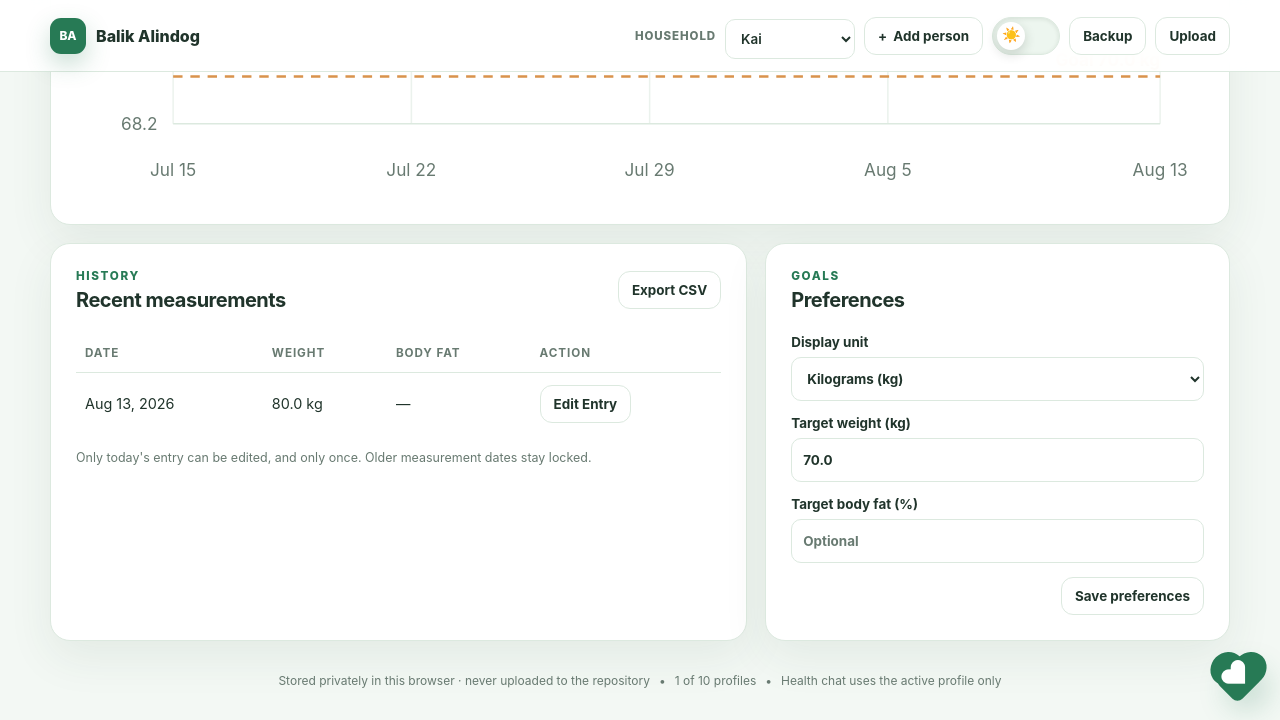
Test case: Balik Alindog Tracker › edits a saved entry once from history
This screenshot has width=1280, height=720.
(page scrolled)
Click the button "Edit Entry".
click(585, 404)  # box [540,385,631,423]
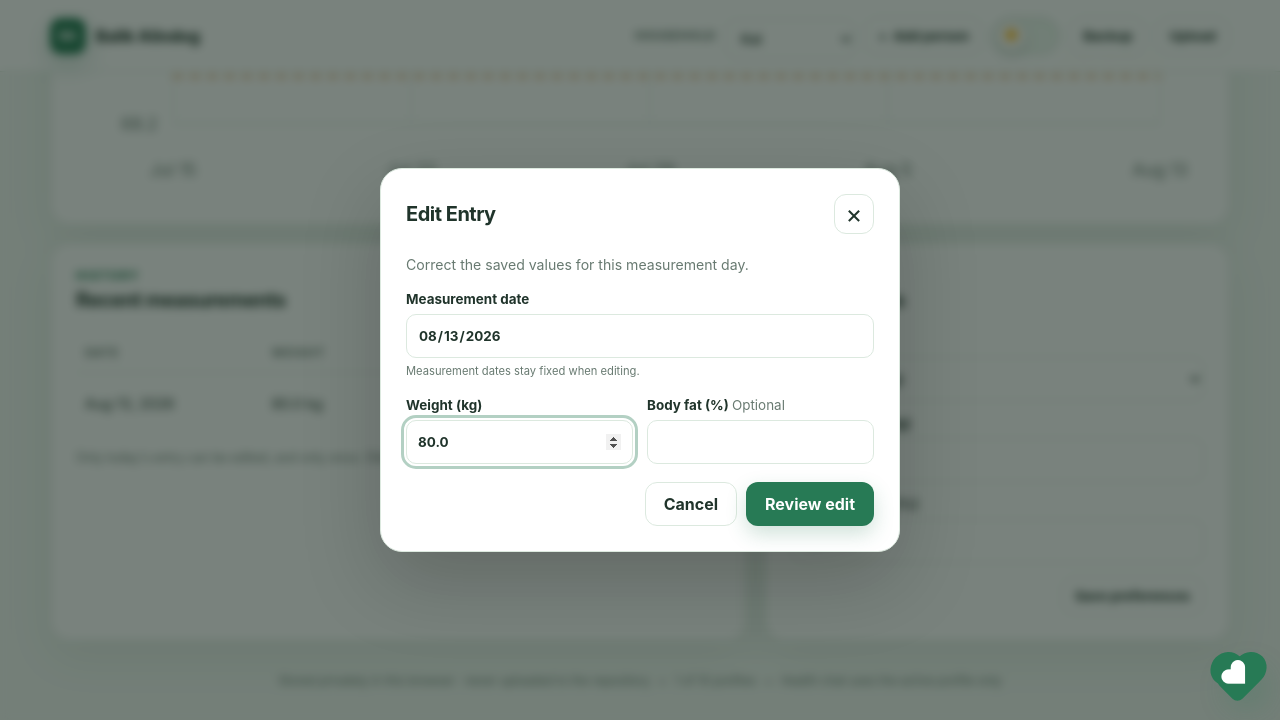
Replace the text in the number field labelled "Weight (kg)" with "79.4" at {"x": 520, "y": 442}, box [406,420,633,464]
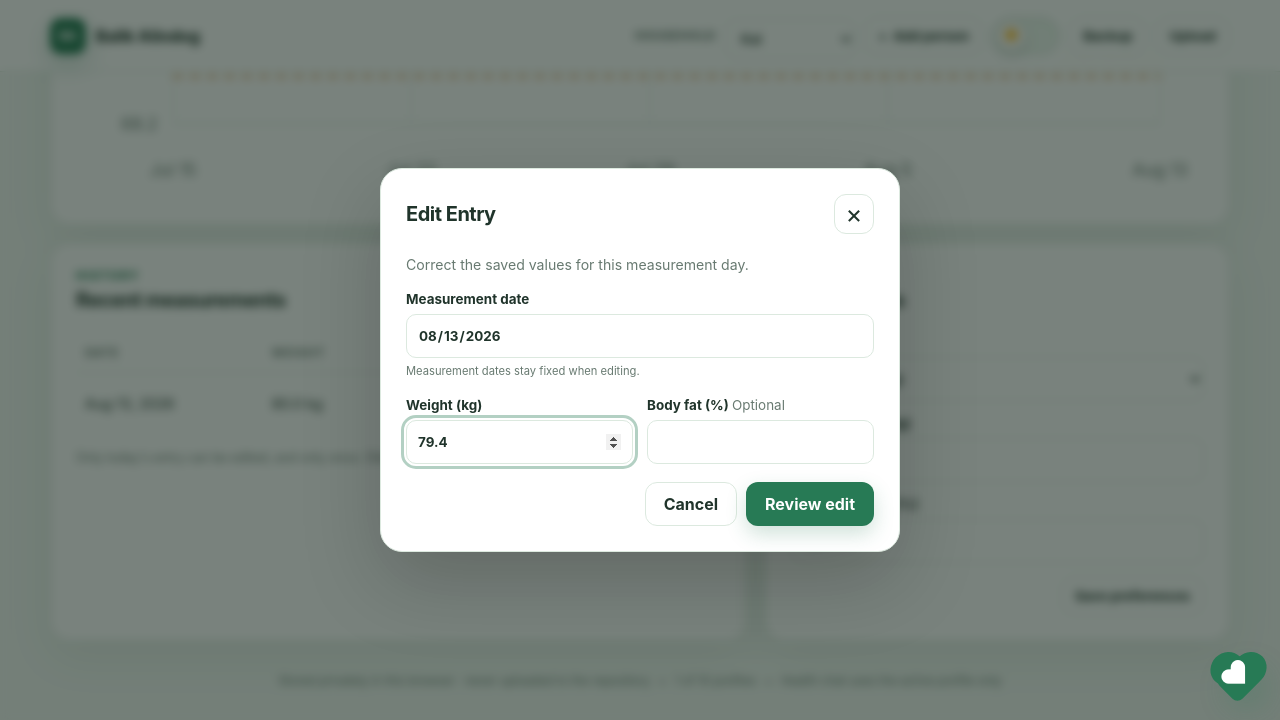
Click the button "Review edit".
click(810, 504)  # box [746,482,874,526]
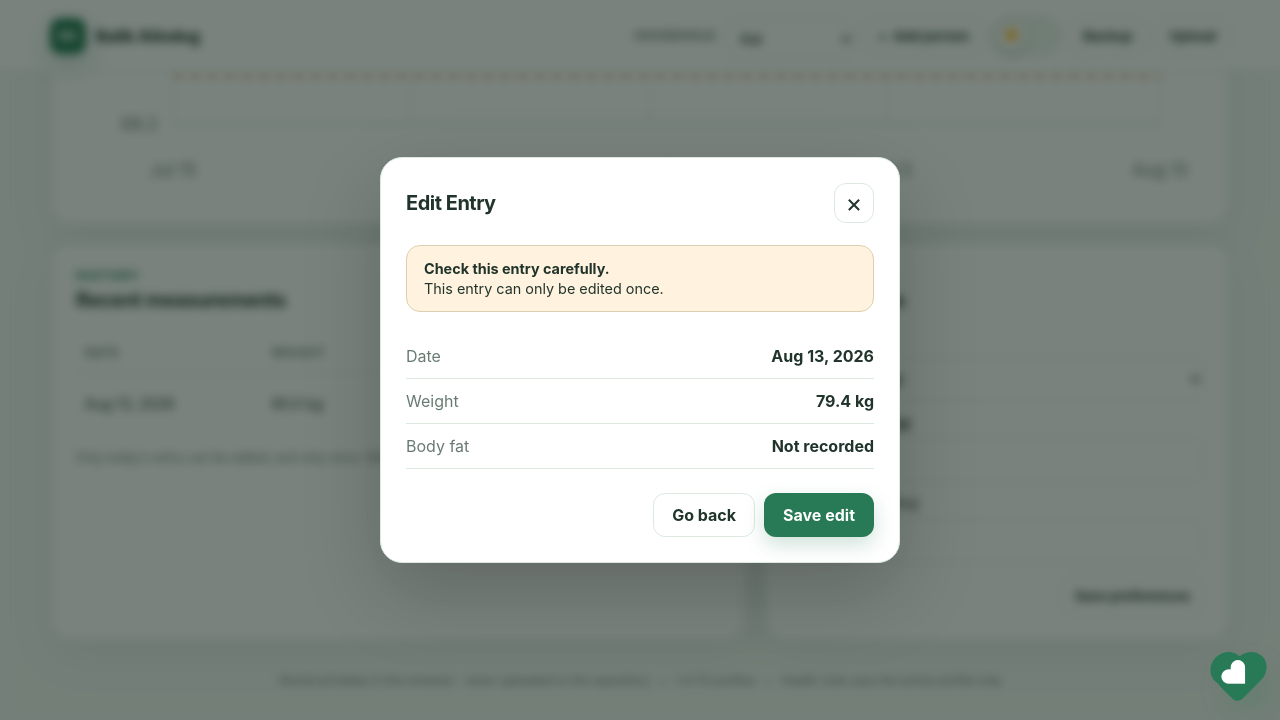
Click the button "Save edit".
click(819, 515)  # box [764,493,874,537]
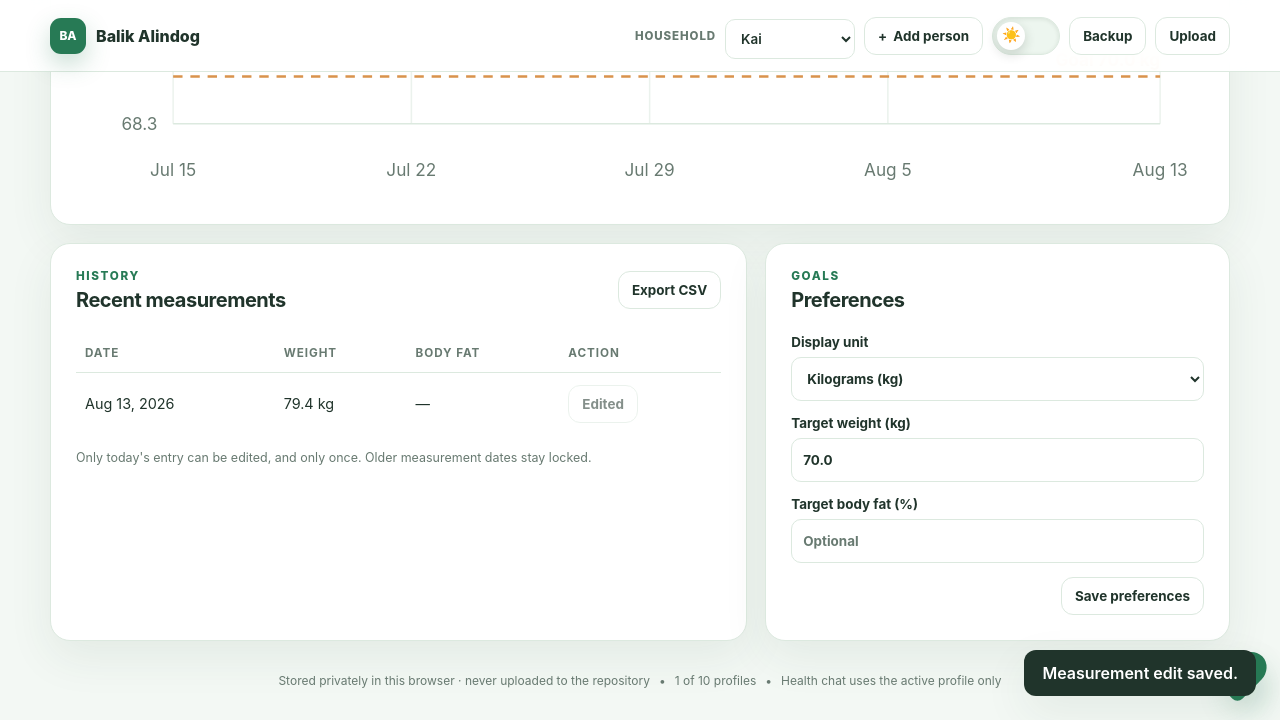
Now the text "Measurement edit saved." is shown, box [1024,650,1256,696]
Now the button "Edited" is disabled, box [568,385,638,423]
